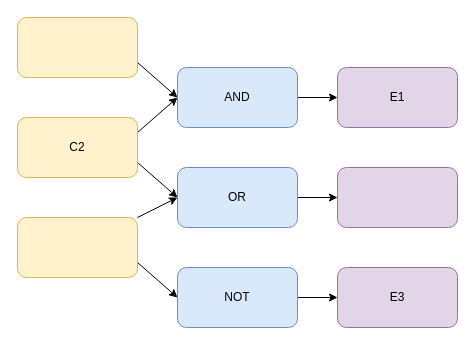
This 475x345 diagram has some shape labels left out. Each missing label, with the centre of its shape:
"C1" goes at point (77, 47).
"C3" goes at point (77, 247).
"E2" goes at point (397, 197).
